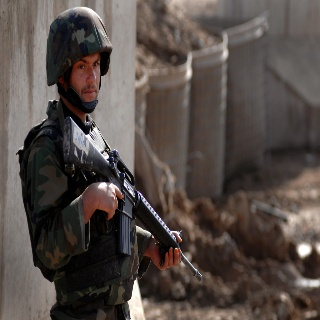rifle: (62, 115, 204, 283)
